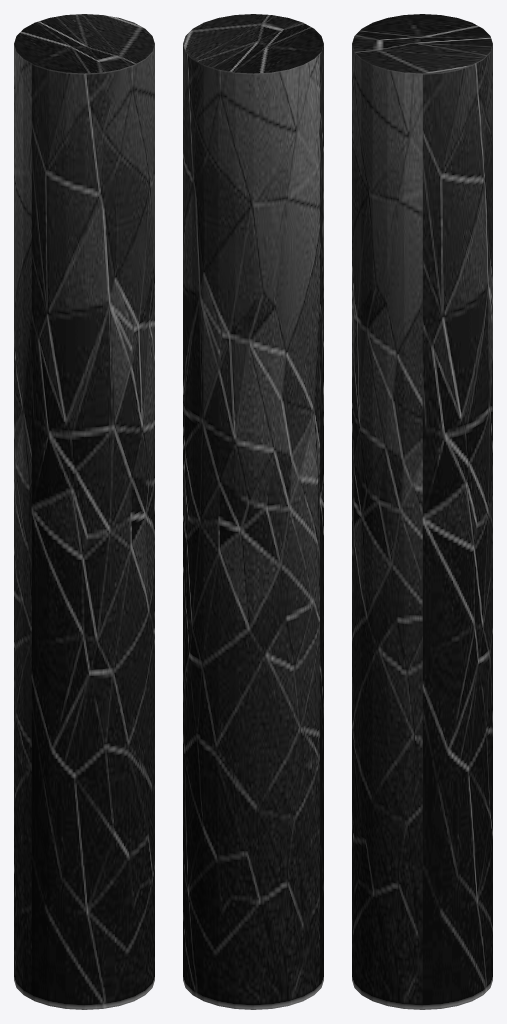
File: p_pole2.dae
3 renders of one model, left to right at view 1: azimuth 30°, elevation 25°; view 2: azimuth 150°, elevation 25°; view 3: azimuth 270°, elevation 25°, orthographic.
Parts seen in each view (by area): view 1: instance_0; view 2: instance_0; view 3: instance_0.
Part boxes in pixels (x1=…): instance_0: x1=14, y1=14, x2=154, y2=1009; instance_0: x1=183, y1=14, x2=323, y2=1009; instance_0: x1=352, y1=14, x2=492, y2=1009.
Size of the model in its own units: 11.81 by 11.81 by 86.61.
Materials: 1 (1 with a texture image).
